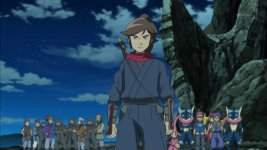greninja: (222, 105, 246, 150), (171, 106, 195, 150)
